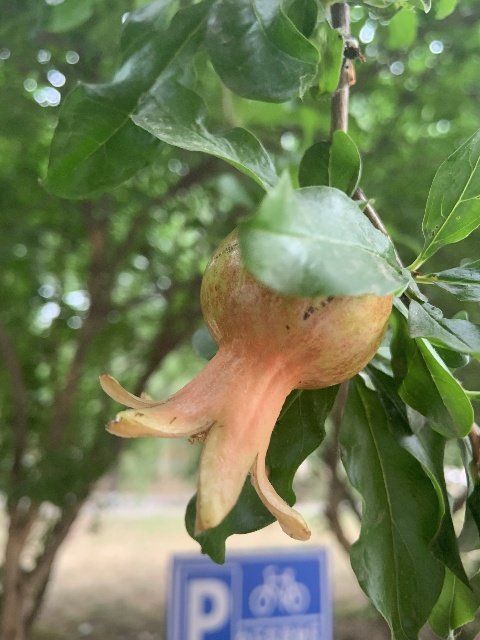early-fruit: (99, 222, 390, 542)
